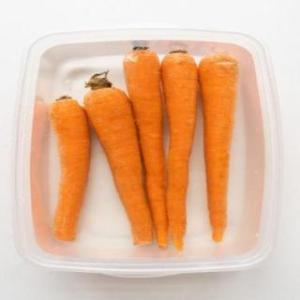carrot: (80, 84, 152, 250), (120, 46, 173, 255), (202, 48, 241, 248), (50, 82, 90, 250), (167, 46, 195, 250)
